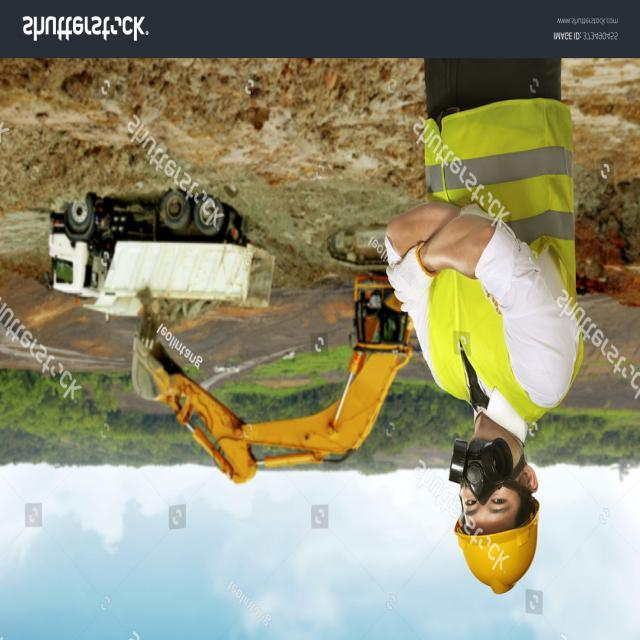safetyhelmet: (451, 445, 556, 601)
